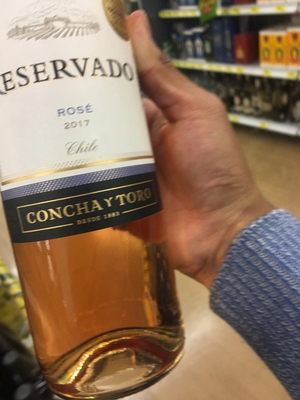reservado rose: (1, 12, 194, 367)
